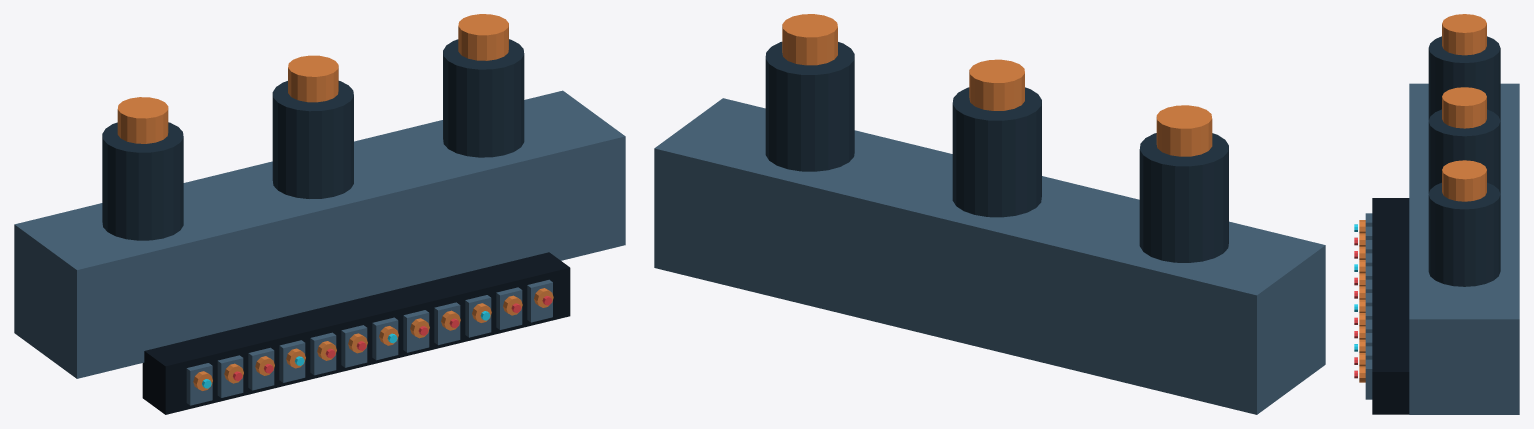
Rendered from 39_L76_AdditiveMeteringManifold.fbx.
3 renders of one model, left to right at view 1: azimuth 30°, elevation 25°; view 2: azimuth 150°, elevation 25°; view 3: azimuth 270°, elevation 25°, orthographic. The views are drawn at different scales.
Visible parts, largest first — view 1: AdditiveMeteringManifold; view 2: AdditiveMeteringManifold; view 3: AdditiveMeteringManifold.
Part boxes in pixels (bbox=[...]): AdditiveMeteringManifold: bbox=[14, 14, 625, 414]; AdditiveMeteringManifold: bbox=[654, 14, 1325, 414]; AdditiveMeteringManifold: bbox=[1354, 14, 1519, 414].
Size of the model in its own units: 248 by 113 by 73.5.
